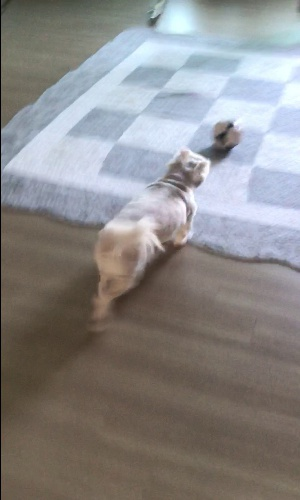ddubi: (90, 142, 213, 332)
